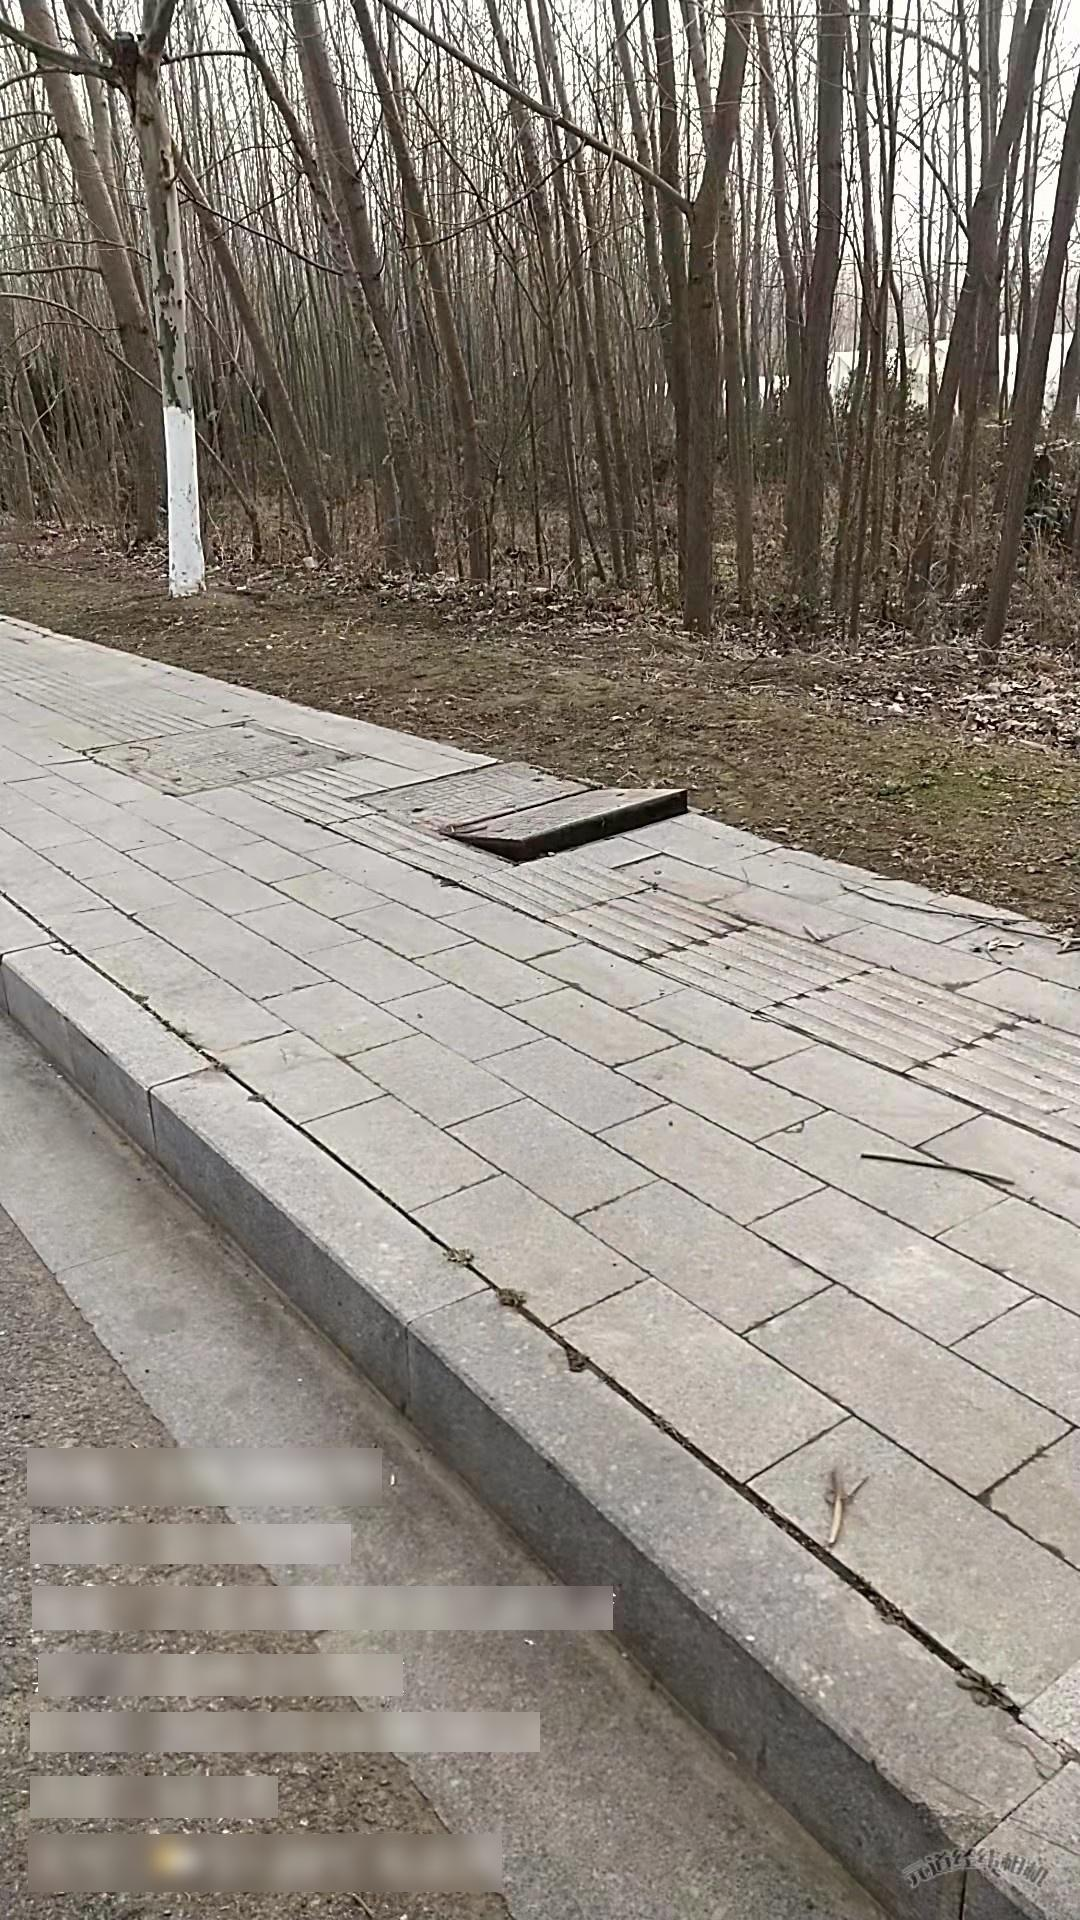wellcover: (375, 741, 713, 897), (82, 688, 381, 816)
